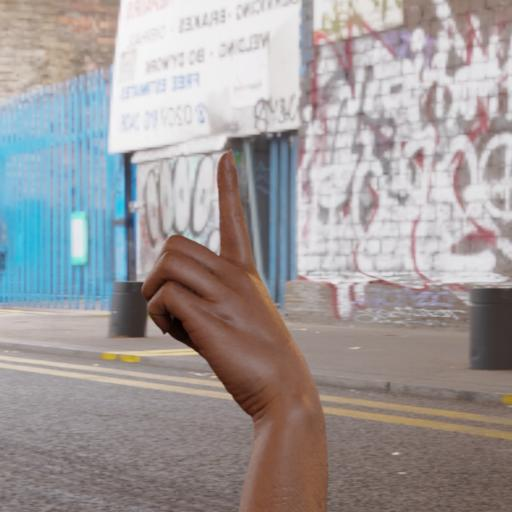D: (119, 145, 366, 455)
